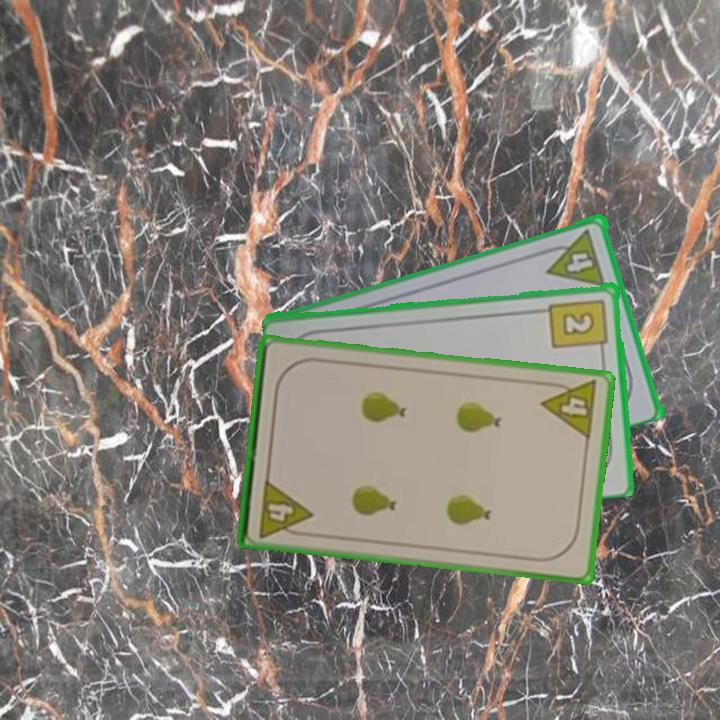2b: (546, 295, 611, 356)
4p: (538, 377, 601, 442), (255, 475, 315, 541), (546, 244, 604, 289)
